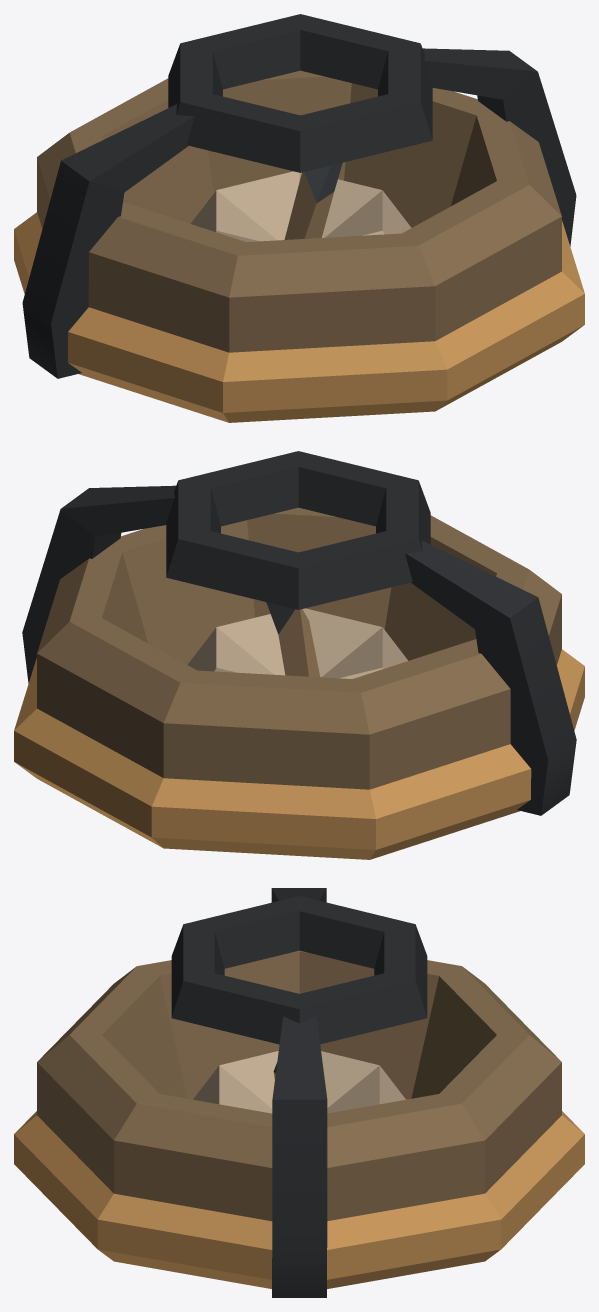
Rendered from SM_Prop_Wax_Warmer_01.fbx.
3 views of the same model, one above another, from view 1: azimuth 30°, elevation 25°; view 2: azimuth 150°, elevation 25°; view 3: azimuth 270°, elevation 25° (orthographic). The views are drawn at different scales.
Parts seen in each view (by area): view 1: SM_Prop_Wax_Warmer_01; view 2: SM_Prop_Wax_Warmer_01; view 3: SM_Prop_Wax_Warmer_01.
Boxes of the visible parts, x1,y1,x2,y2 form: SM_Prop_Wax_Warmer_01: [14, 14, 584, 422]; SM_Prop_Wax_Warmer_01: [14, 451, 584, 859]; SM_Prop_Wax_Warmer_01: [14, 888, 584, 1297].
Bounding box in the file's own units: 25.26 × 10.98 × 24.6.
